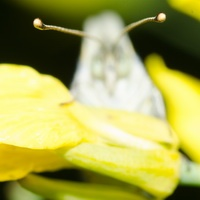insect: (71, 11, 164, 119)
